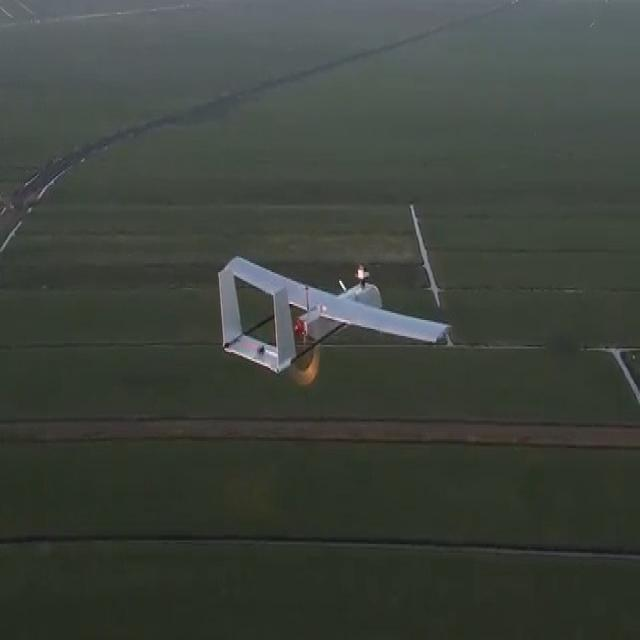iha: (216, 242, 450, 395)
